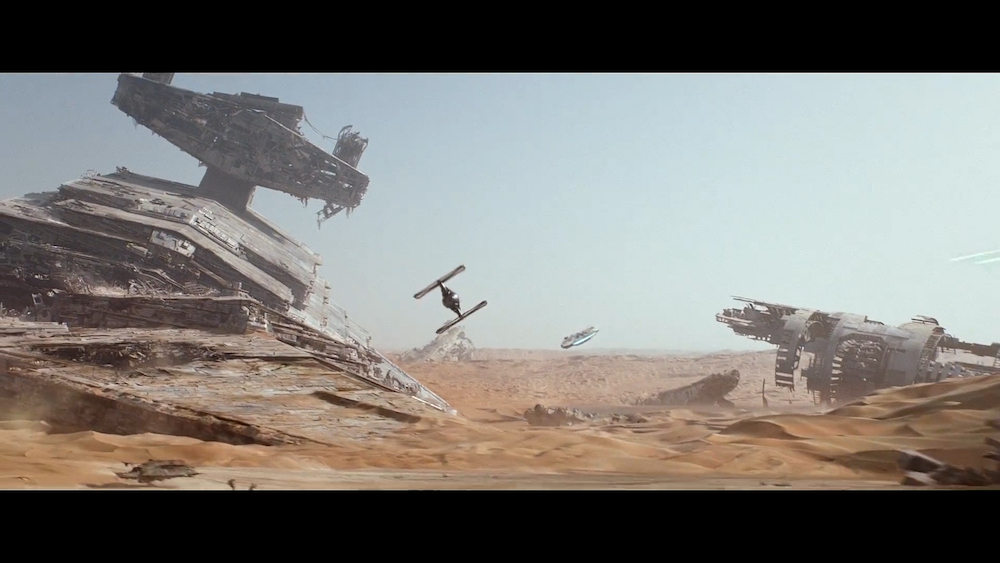Millennium Falcon: (561, 325, 600, 350)
Tie Fighter: (413, 265, 488, 335)
